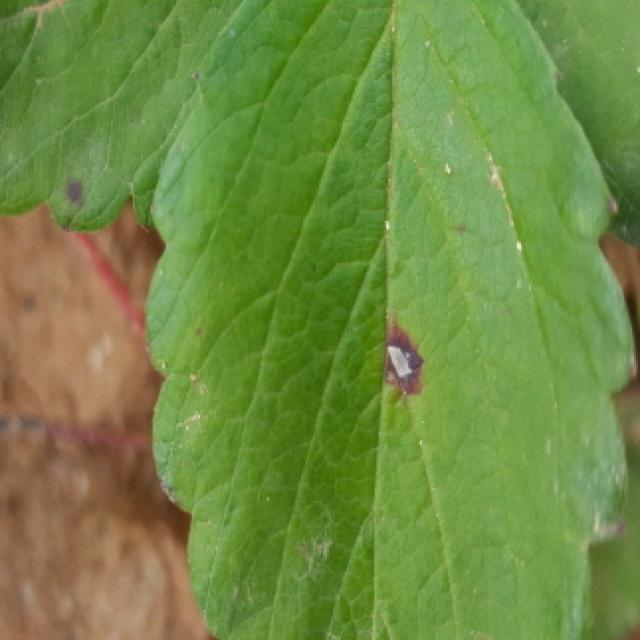Leaf Spot: (142, 0, 640, 640), (514, 0, 640, 248)
